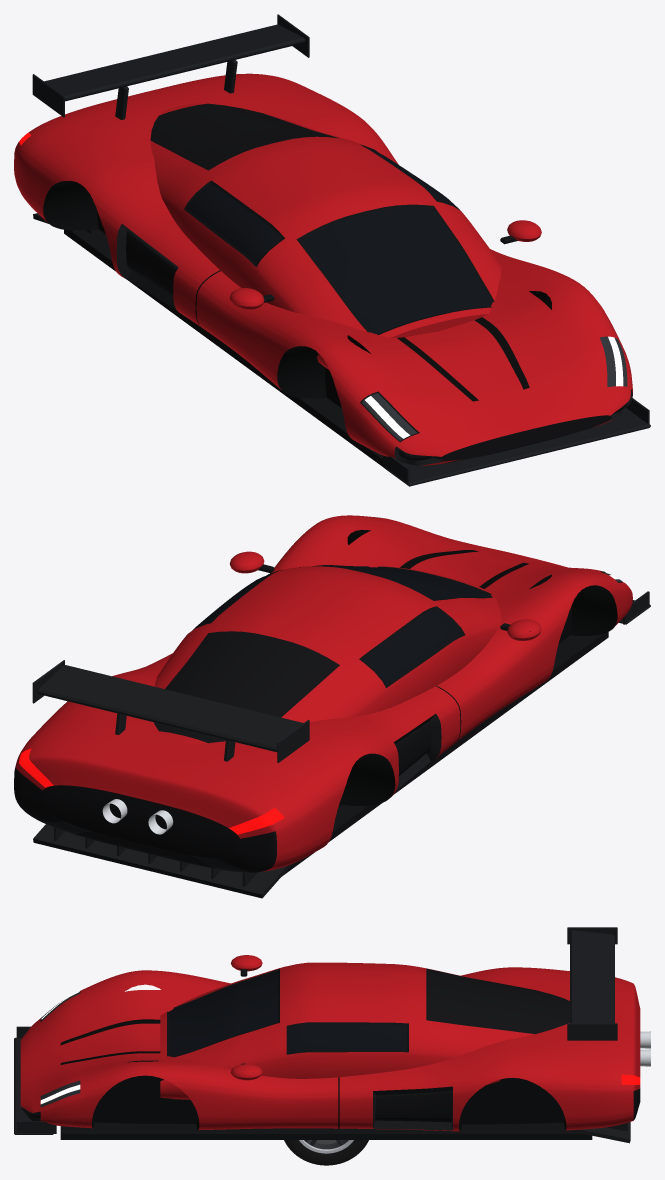
Rendered from hyper.glb.
The picture shows the model from 3 angles, top to bottom: view 1: azimuth 30°, elevation 25°; view 2: azimuth 150°, elevation 25°; view 3: azimuth 270°, elevation 25°; orthographic projection. The views are drawn at different scales.
Visible parts, largest first — view 1: shell_lod0, wing, splitter, details, mirrorL, mirrorR; view 2: shell_lod0, wing, details, mirrorL, mirrorR; view 3: shell_lod0, details, wing, wheel_lod0, splitter, mirrorR, mirrorL.
Boxes of the visible parts, bbox=[...] form: shell_lod0: bbox=[14, 73, 632, 465]; wing: bbox=[32, 14, 309, 119]; splitter: bbox=[383, 398, 650, 486]; details: bbox=[33, 213, 384, 467]; mirrorL: bbox=[500, 220, 541, 244]; mirrorR: bbox=[229, 288, 274, 309]; shell_lod0: bbox=[14, 515, 632, 872]; wing: bbox=[32, 660, 309, 762]; details: bbox=[33, 632, 608, 898]; mirrorL: bbox=[230, 551, 274, 573]; mirrorR: bbox=[500, 619, 541, 640]; shell_lod0: bbox=[20, 962, 640, 1131]; details: bbox=[60, 1031, 650, 1143]; wing: bbox=[567, 927, 617, 1040]; wheel_lod0: bbox=[284, 1140, 368, 1165]; splitter: bbox=[14, 1026, 56, 1134]; mirrorR: bbox=[231, 955, 262, 976]; mirrorL: bbox=[231, 1063, 262, 1080].
Size of what is drawn, in the model's own units: 2.14 by 1.52 by 4.79.
